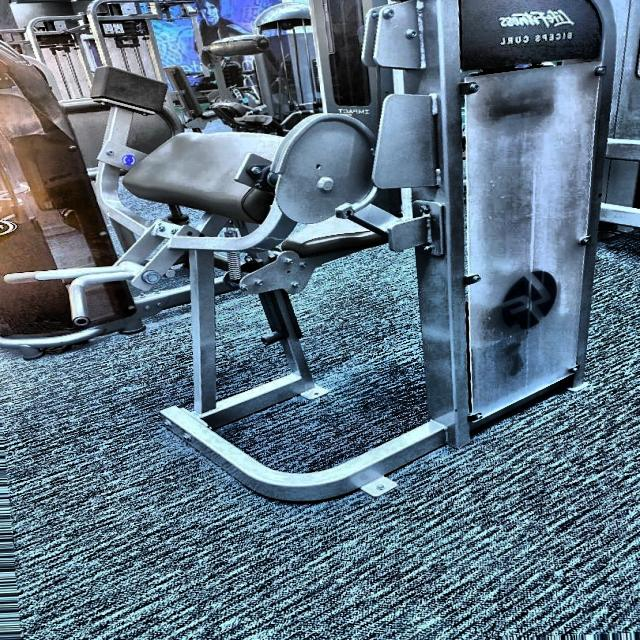bicep_curl_machine: (0, 0, 416, 534), (501, 32, 594, 57)
